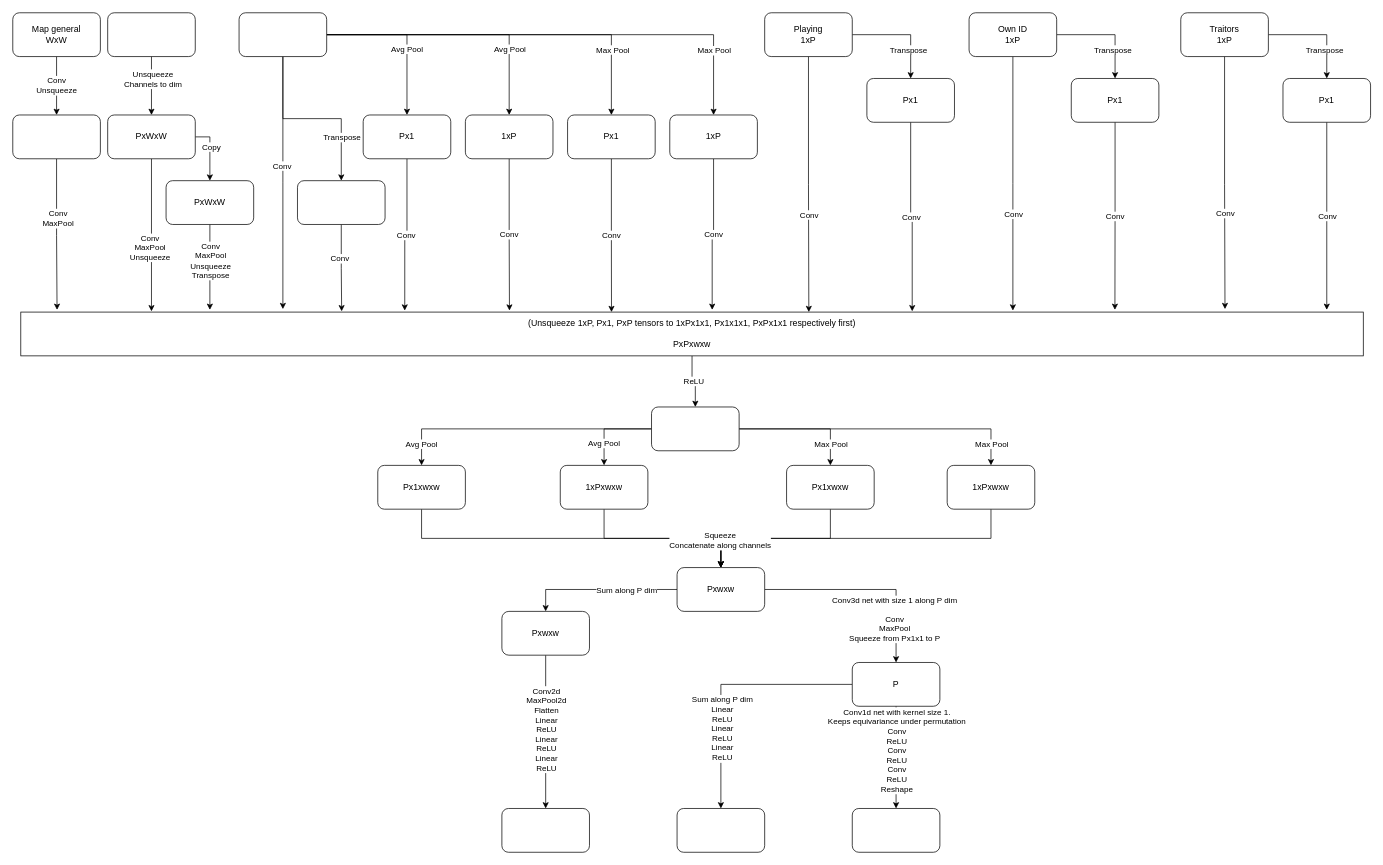
Image size: 1383x865. Some labels were removed from this diagram. Each missing label, with the centre of its shape:
1x1xWxW: the point at 56,136
Map agents WxW: the point at 151,34
Move Logits 5: the point at 545,830
PxP: the point at 341,202
PxPxwxw: the point at 695,428
Value out 1: the point at 720,830
Vote Logits 2xP: the point at 896,830
Votes PxP: the point at 282,34
